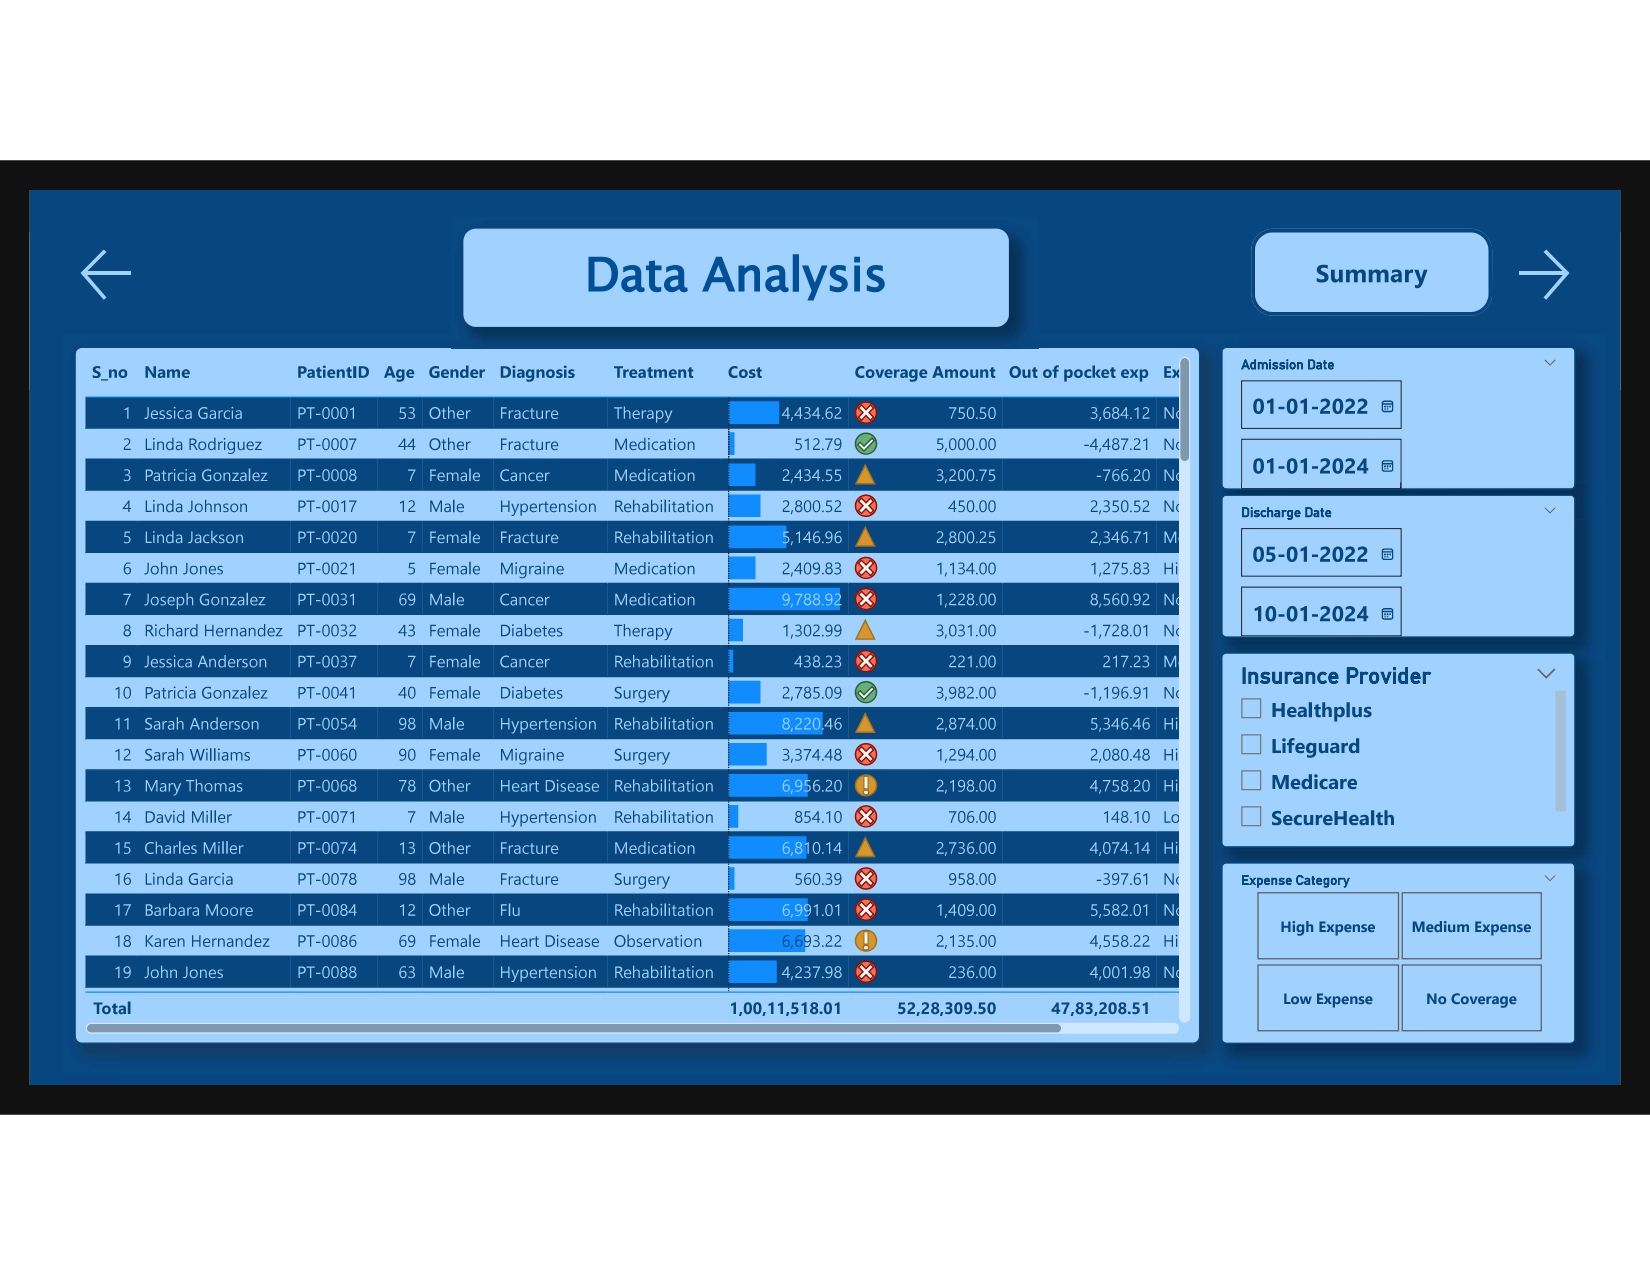

What the dashboard file says about the page in this screenshot:
{"tool":"powerbi","page":{"name":"Data Source","canvas":[1280,720],"ordinal":1},"visuals":[{"type":"slicer","fields":{"Values":["Health_Care_Project (real time).Diagnosis"]},"box":[569.3,300.3,285.4,95.1],"z":0},{"type":"slicer","fields":{"Values":["Health_Care_Project (real time).AdmissionDate"]},"box":[958.7,126.3,285.4,114.5],"z":1000},{"type":"tableEx","title":"Diagnosis Cost by Departments","fields":{"Values":["Health_Care_Project (real time).S_no","Health_Care_Project (real time).Name","Health_Care_Project (real time).PatientID","Health_Care_Project (real time).Age","Health_Care_Project (real time).Gender","Health_Care_Project (real time).Diagnosis","Health_Care_Project (real time).Treatment","Sum(Health_Care_Project (real time).Cost)","Sum(Health_Care_Project (real time).Coverage Amount)","Sum(Health_Care_Project (real time).Out ofpocket exp)","Health_Care_Project (real time).Expense Category"]},"box":[35.7,126.3,906.7,560.4],"z":2000},{"type":"slicer","fields":{"Values":["Health_Care_Project (real time).DischargeDate"]},"box":[958.7,245.3,285.4,114.5],"z":3000},{"type":"slicer","fields":{"Values":["Health_Care_Project (real time).Insruance Provider"]},"box":[958.7,371.6,285.4,157.6],"z":4000},{"type":"slicer","fields":{"Values":["Health_Care_Project (real time).Expense Category"]},"box":[958.7,541,285.4,145.7],"z":5000},{"type":"textbox","box":[349.3,31.2,438.5,78.8],"z":6000},{"type":"actionButton","box":[35.7,41.6,55,52],"z":6001},{"type":"actionButton","box":[1192.1,41.6,52,52],"z":6002},{"type":"actionButton","box":[982.5,31.2,194.7,69.9],"z":6003}]}

Visuals, with their boxes on the page's 1280x720 design canvas (x1, y1, x2, y2). These are canvas units, not pixel positions in the 1650x1275 screenshot, which may show the page scaled, cropped or inside an application window:
slicer - Health_Care_Project (real time).Diagnosis: Rect(569, 300, 855, 395)
slicer - Health_Care_Project (real time).AdmissionDate: Rect(959, 126, 1244, 241)
"Diagnosis Cost by Departments" tableEx: Rect(36, 126, 942, 687)
slicer - Health_Care_Project (real time).DischargeDate: Rect(959, 245, 1244, 360)
slicer - Health_Care_Project (real time).Insruance Provider: Rect(959, 372, 1244, 529)
slicer - Health_Care_Project (real time).Expense Category: Rect(959, 541, 1244, 687)
textbox: Rect(349, 31, 788, 110)
actionButton: Rect(36, 42, 91, 94)
actionButton: Rect(1192, 42, 1244, 94)
actionButton: Rect(982, 31, 1177, 101)
